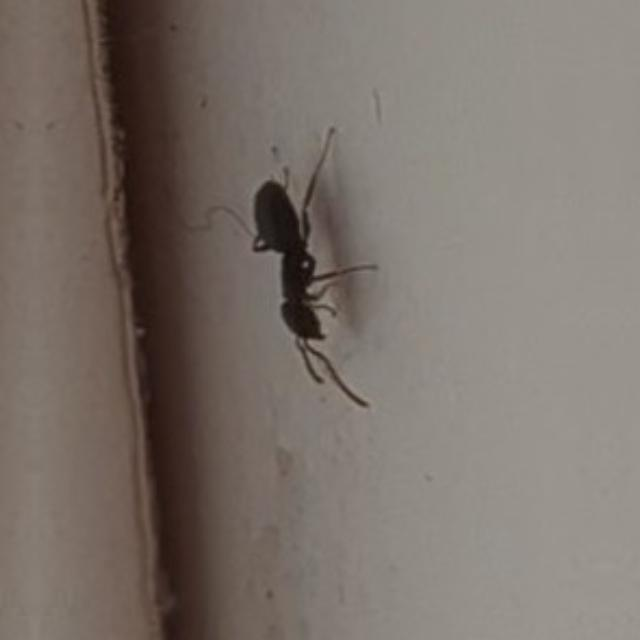Tapinoma: (220, 140, 370, 394)
